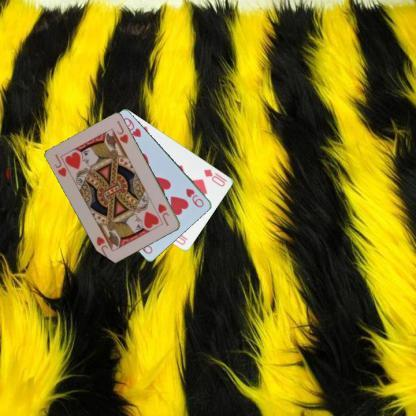10d: (202, 166, 229, 188)
9h: (183, 186, 205, 208)
Jh: (52, 151, 68, 178), (156, 201, 170, 227)
